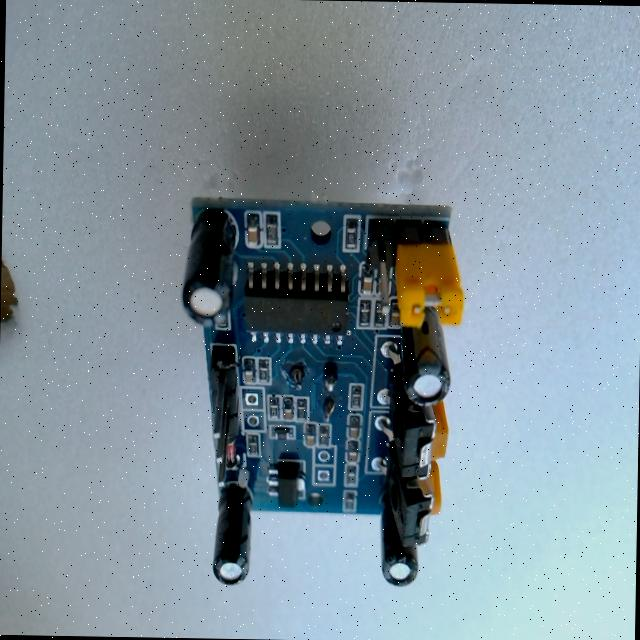Electrolytic capacitor: (180, 207, 237, 326), (210, 481, 256, 588), (402, 319, 452, 411), (378, 491, 420, 588)
IC: (241, 270, 350, 334)
